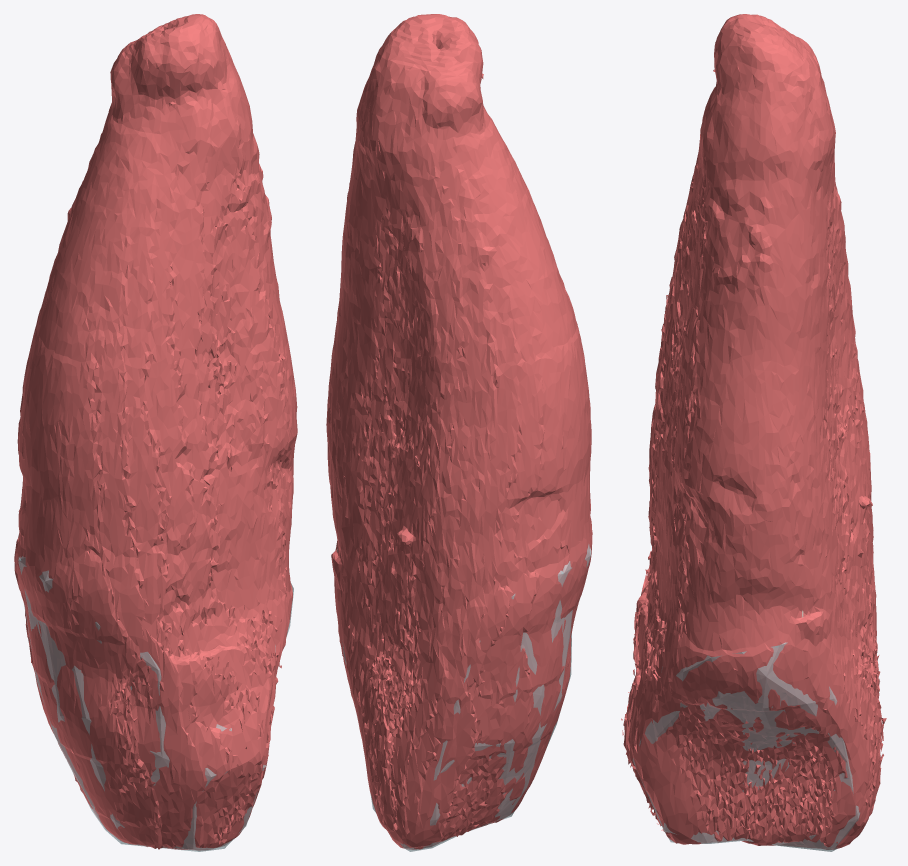
Rendered from tooth_5_densities.glb.
3 renders of one model, left to right at view 1: azimuth 30°, elevation 25°; view 2: azimuth 150°, elevation 25°; view 3: azimuth 270°, elevation 25°, orthographic. The views are drawn at different scales.
Parts seen in each view (by area): view 1: Density_1_PulpCanal, Density_4_DEJ_Boundary; view 2: Density_1_PulpCanal, Density_4_DEJ_Boundary; view 3: Density_1_PulpCanal, Density_4_DEJ_Boundary.
Part boxes in pixels (x1,y1,x2,y2): Density_1_PulpCanal: (14,14,297,850); Density_4_DEJ_Boundary: (18,556,293,851); Density_1_PulpCanal: (326,14,592,849); Density_4_DEJ_Boundary: (342,544,590,851); Density_1_PulpCanal: (621,14,886,849); Density_4_DEJ_Boundary: (633,642,859,851).
Size of the model in its own units: 7.76 by 23.85 by 7.07.
